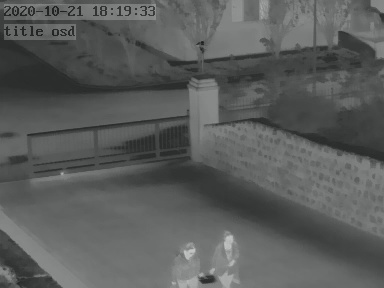person: (210, 229, 244, 288), (169, 237, 206, 288)
